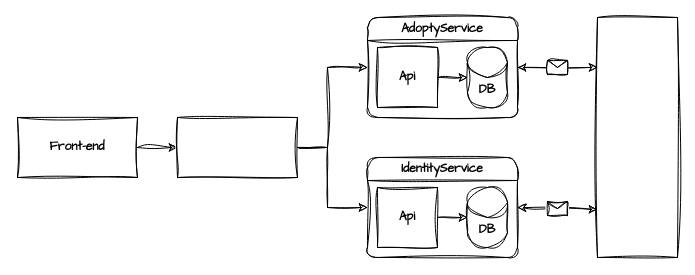
This 695x275 diagram has some shape labels left out. The shapes that lost their labels are listed below. From the top down, each one's centre as x and y in pixels, then its label:
At point 237,147: "ApiGateway".
At point 637,137: "Message Broker (RabbitMQ)".
